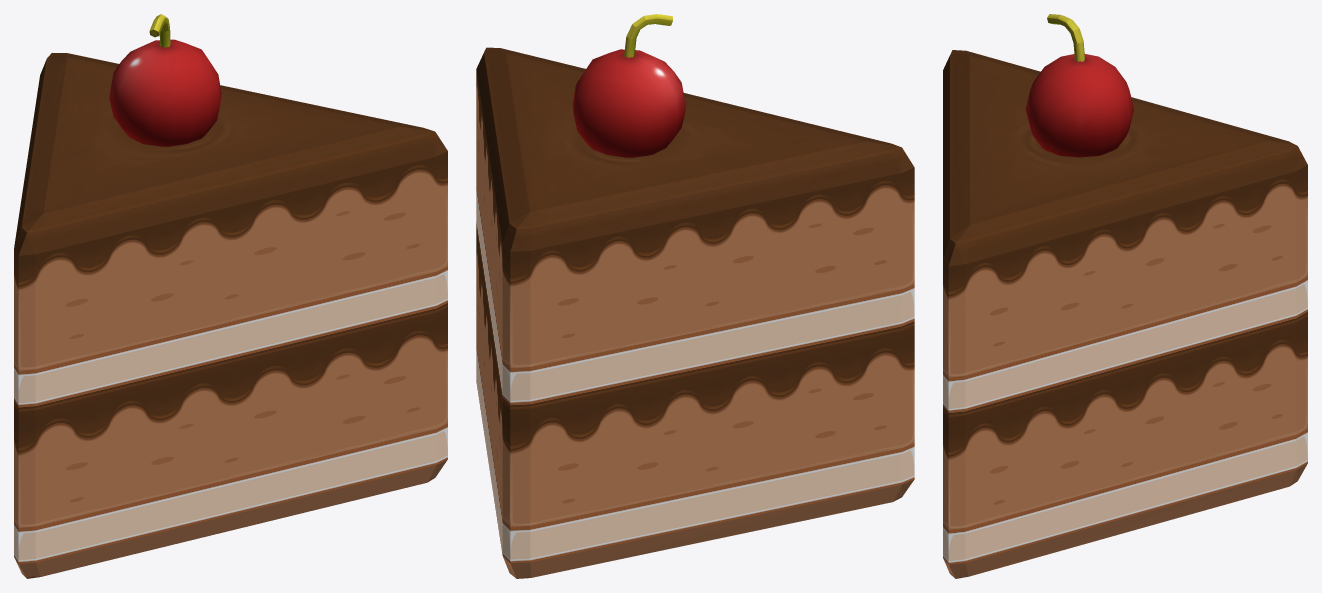
Rendered from Cake.FBX.
3 views of the same model, side by side, from view 1: azimuth 30°, elevation 25°; view 2: azimuth 150°, elevation 25°; view 3: azimuth 270°, elevation 25° (orthographic). The views are drawn at different scales.
Visible parts, largest first — view 1: Cake; view 2: Cake; view 3: Cake.
Boxes of the visible parts, box(x1,y1,x2,y2) form: Cake: box(14, 14, 447, 578); Cake: box(476, 14, 914, 578); Cake: box(943, 14, 1307, 578).
Bounding box in the file's own units: 21.17 × 22.6 × 16.08.
